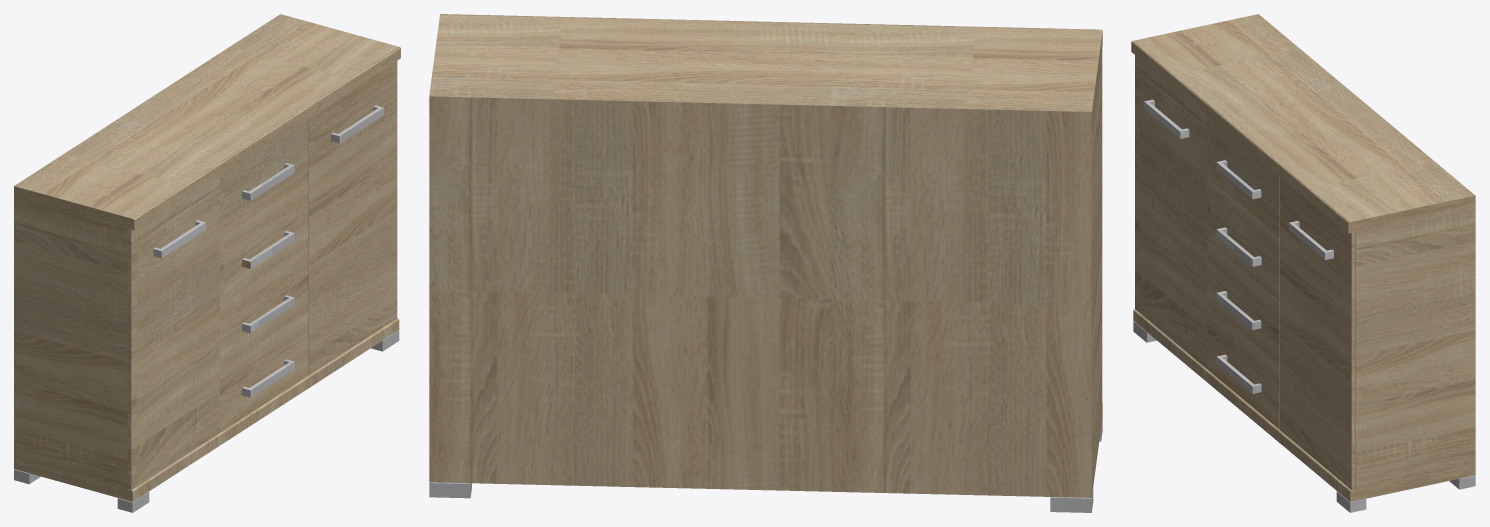
Rendered from modern_dresser.glb.
3 renders of one model, left to right at view 1: azimuth 30°, elevation 25°; view 2: azimuth 150°, elevation 25°; view 3: azimuth 270°, elevation 25°, orthographic. The views are drawn at different scales.
Parts seen in each view (by area): view 1: Komoda_1_0; view 2: Komoda_1_0; view 3: Komoda_1_0.
Part boxes in pixels (x1,y1,x2,y2): Komoda_1_0: (14,14,400,512); Komoda_1_0: (429,14,1102,512); Komoda_1_0: (1131,14,1475,512).
Bounding box in the file's own units: 1.45 × 0.9447 × 1.01.
Materials: 2 (2 with a texture image).
